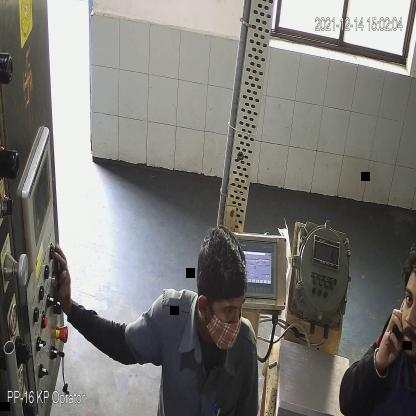no_goggles: (209, 296, 246, 327)
